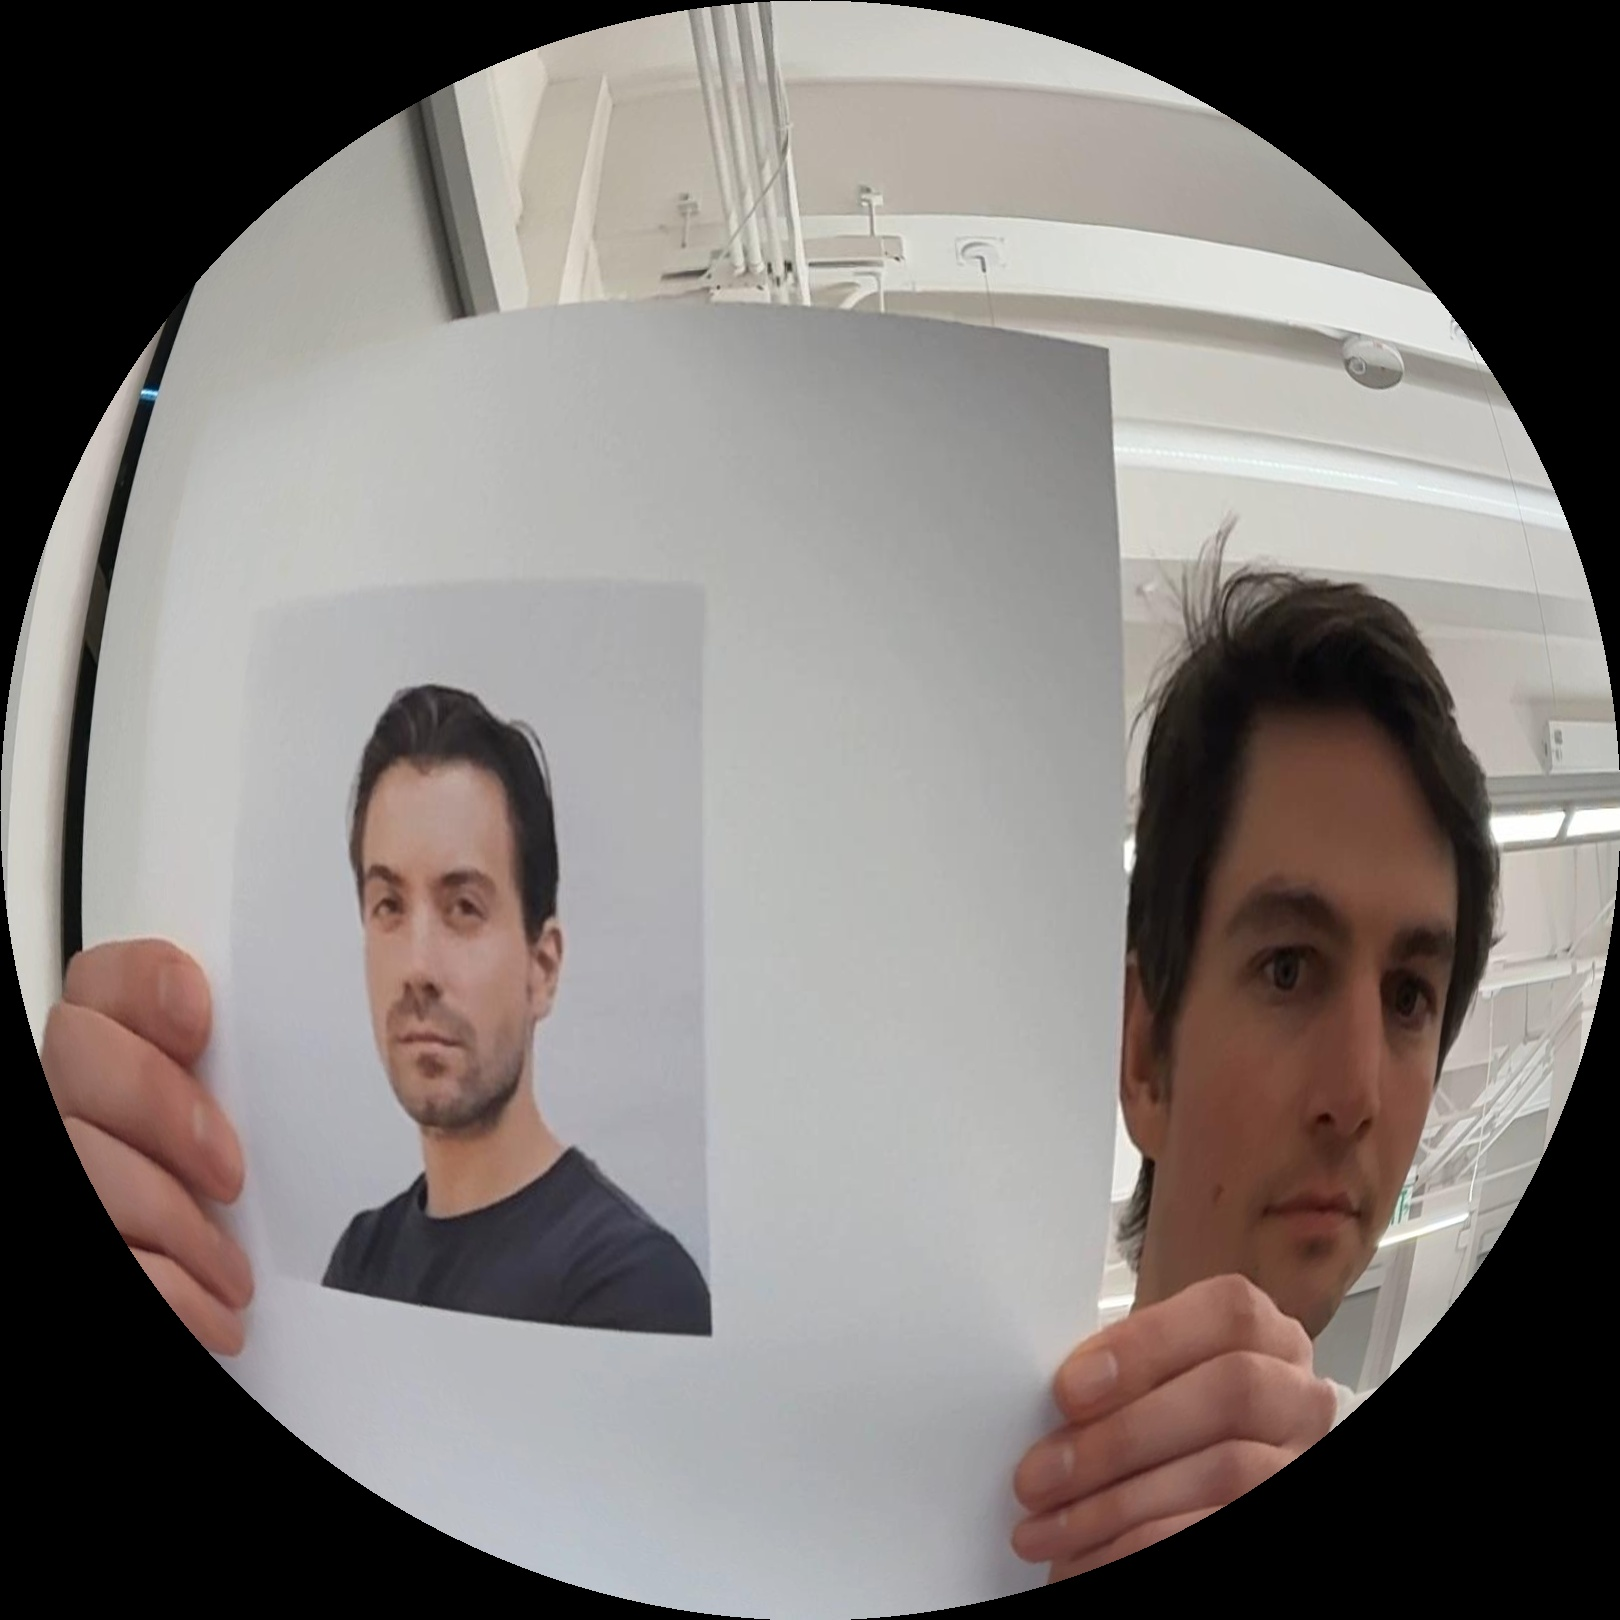face: (1134, 770, 1455, 1402), (347, 670, 578, 1150)
